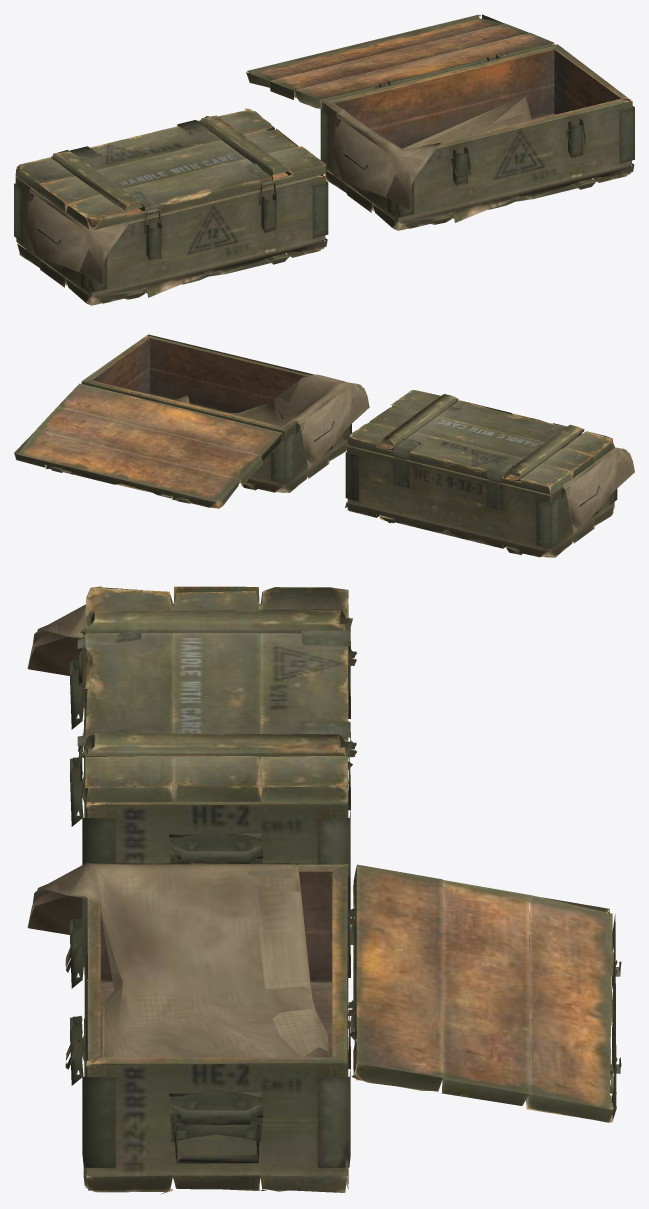
Rendered from old_military_crate_1k.gltf.
3 views of the same model, one above another, from view 1: azimuth 30°, elevation 25°; view 2: azimuth 150°, elevation 25°; view 3: azimuth 270°, elevation 25° (orthographic). The views are drawn at different scales.
Visible parts, largest first — view 1: old_military_crate_b_LOD0, old_military_crate_lid_a_LOD0, old_military_crate_a_LOD0, old_military_crate_lid_b_LOD0, old_military_crate_cloth_b_LOD0, old_military_crate_cloth_a_LOD0, old_military_crate_latch_a_LOD0, old_military_crate_latch_b_LOD0; view 2: old_military_crate_lid_b_LOD0, old_military_crate_a_LOD0, old_military_crate_lid_a_LOD0, old_military_crate_b_LOD0, old_military_crate_cloth_b_LOD0, old_military_crate_cloth_a_LOD0; view 3: old_military_crate_lid_a_LOD0, old_military_crate_lid_b_LOD0, old_military_crate_b_LOD0, old_military_crate_cloth_b_LOD0, old_military_crate_a_LOD0, old_military_crate_cloth_a_LOD0, old_military_crate_latch_b_LOD0, old_military_crate_latch_a_LOD0.
Boxes of the visible parts, x1,y1,x2,y2 form: old_military_crate_b_LOD0: [320, 44, 634, 230]; old_military_crate_lid_a_LOD0: [15, 108, 327, 230]; old_military_crate_a_LOD0: [14, 174, 328, 305]; old_military_crate_lid_b_LOD0: [246, 14, 554, 108]; old_military_crate_cloth_b_LOD0: [334, 95, 531, 209]; old_military_crate_cloth_a_LOD0: [27, 187, 130, 284]; old_military_crate_latch_a_LOD0: [146, 194, 276, 261]; old_military_crate_latch_b_LOD0: [453, 119, 583, 186]; old_military_crate_lid_b_LOD0: [14, 383, 282, 508]; old_military_crate_a_LOD0: [345, 445, 617, 557]; old_military_crate_lid_a_LOD0: [347, 390, 614, 494]; old_military_crate_b_LOD0: [81, 334, 351, 492]; old_military_crate_cloth_b_LOD0: [174, 374, 369, 469]; old_military_crate_cloth_a_LOD0: [563, 447, 634, 534]; old_military_crate_lid_a_LOD0: [77, 586, 356, 802]; old_military_crate_lid_b_LOD0: [348, 864, 621, 1122]; old_military_crate_b_LOD0: [82, 864, 356, 1194]; old_military_crate_cloth_b_LOD0: [27, 862, 329, 1057]; old_military_crate_a_LOD0: [82, 617, 356, 885]; old_military_crate_cloth_a_LOD0: [27, 604, 174, 798]; old_military_crate_latch_b_LOD0: [70, 918, 82, 1085]; old_military_crate_latch_a_LOD0: [70, 660, 82, 826].
Size of what is drawn, in the model's own units: 1.81 by 0.3015 by 0.9694.
Materials: 1 (1 with a texture image).
